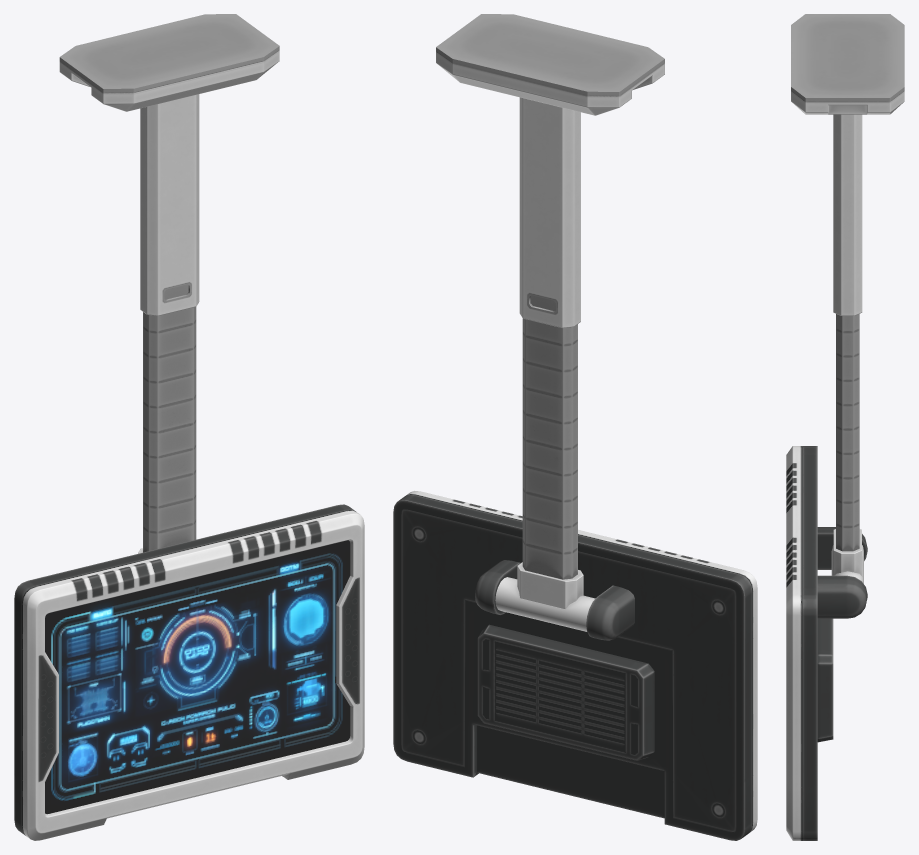
The model's file is MedDisplay02_2.FBX.
3 renders of one model, left to right at view 1: azimuth 30°, elevation 25°; view 2: azimuth 150°, elevation 25°; view 3: azimuth 270°, elevation 25°, orthographic. The views are drawn at different scales.
Parts seen in each view (by area): view 1: Display, Base, Slide; view 2: Display, Base, Slide; view 3: Display, Base, Slide.
Boxes of the visible parts, left/top/right/bottom form: Display: left=14, top=504, right=364, bottom=840; Base: left=59, top=14, right=279, bottom=315; Slide: left=138, top=284, right=196, bottom=553; Display: left=393, top=491, right=757, bottom=840; Base: left=436, top=14, right=664, bottom=328; Slide: left=495, top=295, right=595, bottom=631; Display: left=786, top=446, right=867, bottom=840; Base: left=791, top=14, right=904, bottom=315; Slide: left=831, top=314, right=863, bottom=583.
Size of what is drawn, in the model's own units: 0.7071 by 1.46 by 0.221.
